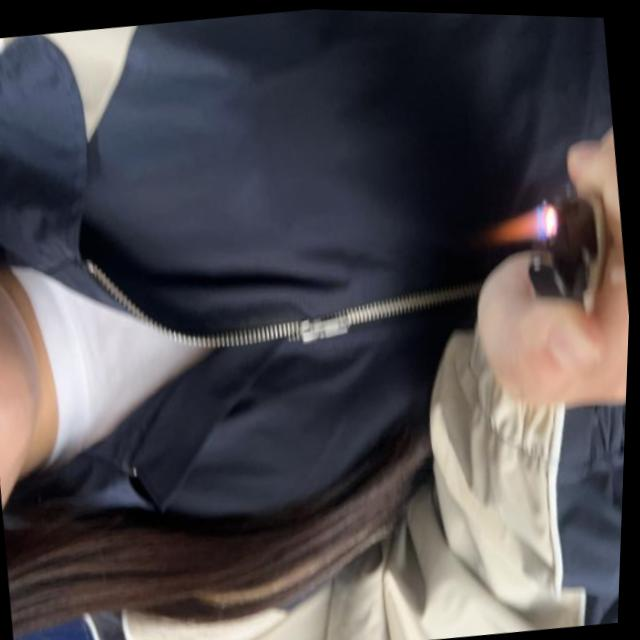Fire: (489, 199, 551, 246)
